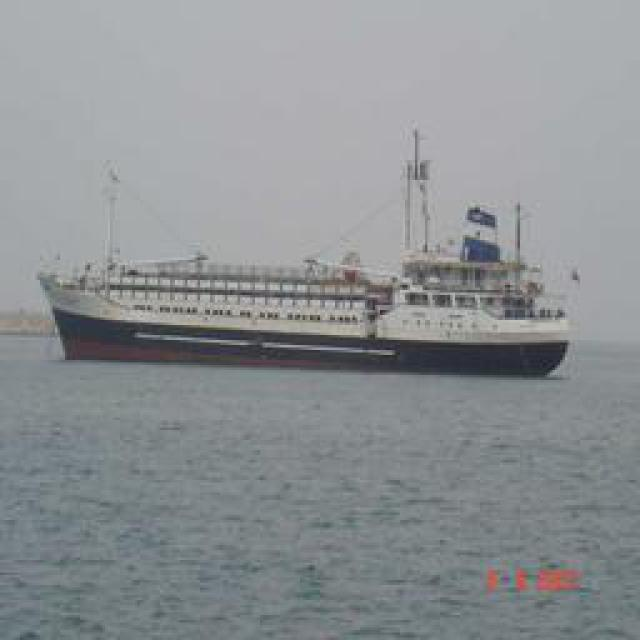Ship: (15, 141, 578, 371)
